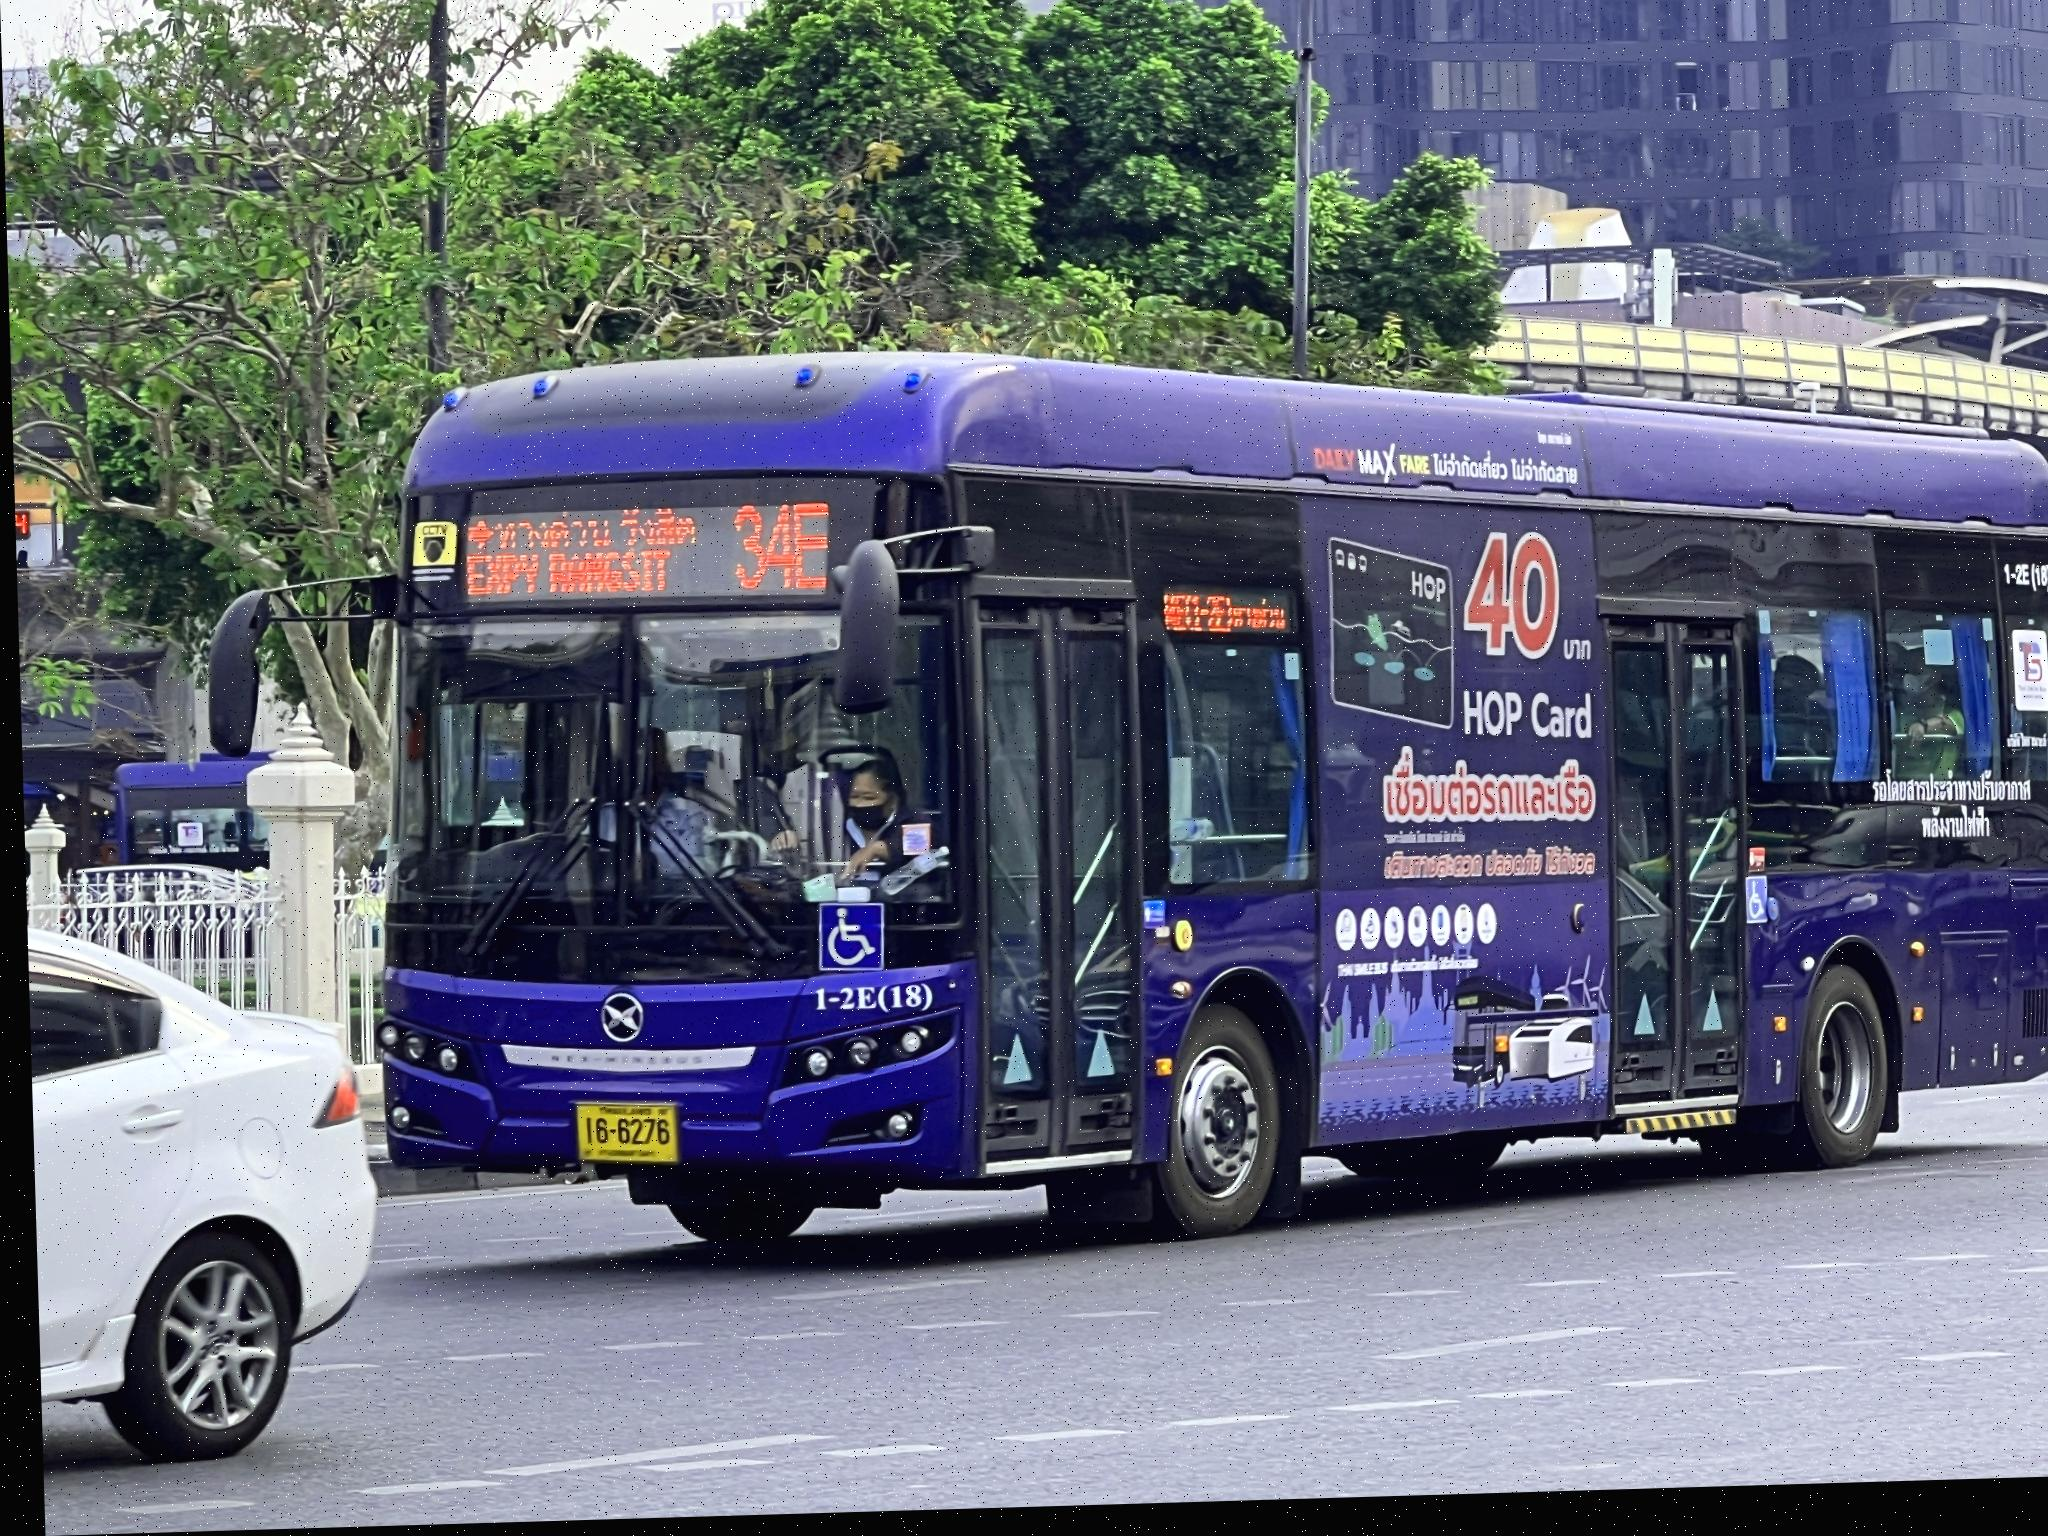Bus Line Number: (722, 492, 839, 620)
Bus Side Number: (797, 978, 930, 1025)
Destination Sign: (448, 502, 706, 613)
TSB-Bus: (347, 360, 2048, 1257)
